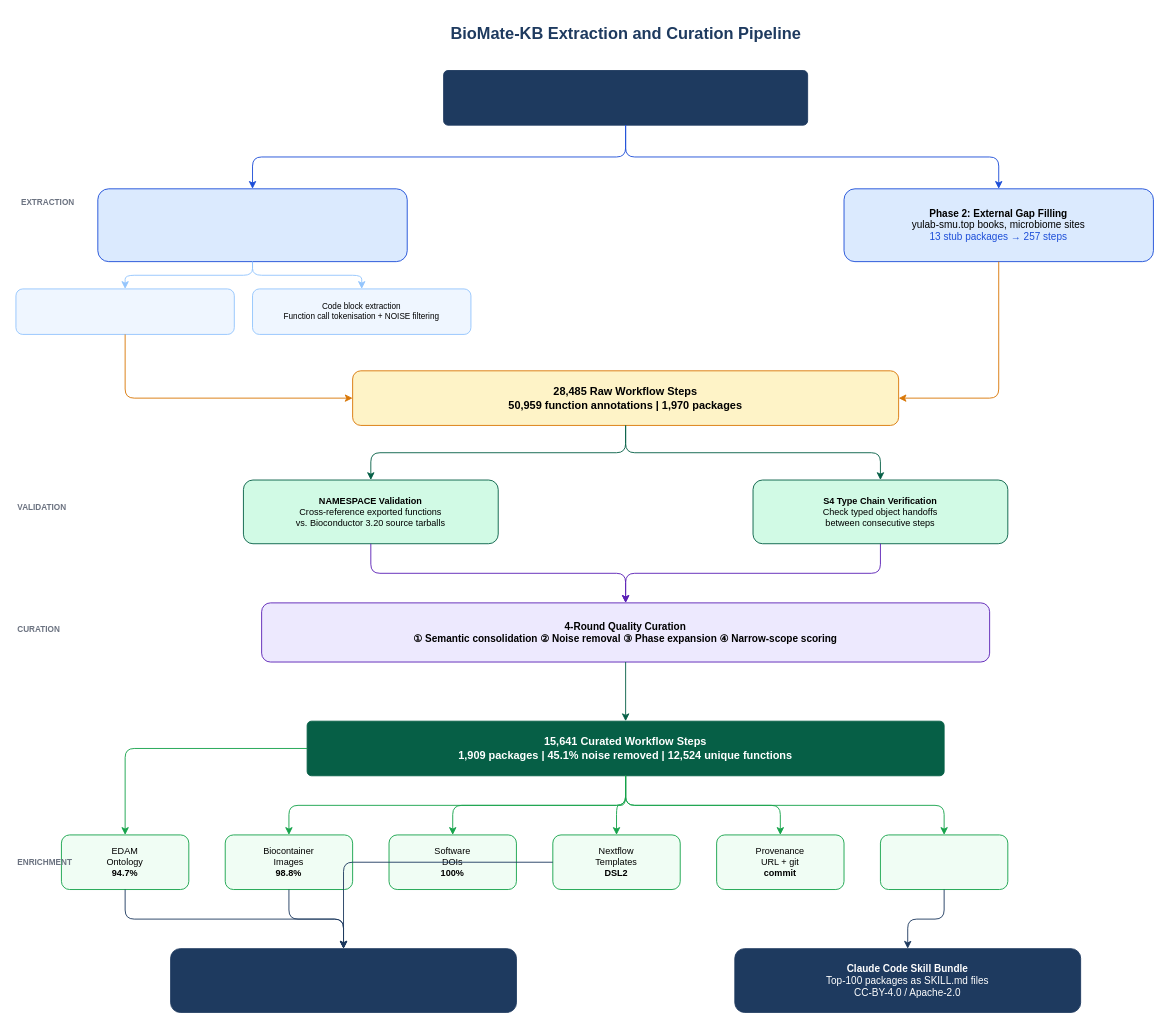
The diagram is 1169 pixels wide and 1028 high, and some of its shapes have lost their labels. The shapes that lost their labels are listed below. From the top down, each one's box as (x1, y1, x2, y2) in pixels, then its label:
(443, 70, 808, 125): Bioconductor 3.20 2,241 Packages
(97, 188, 407, 262): Phase 1: Vignette Parsing HTML, Rnw/Sweave, knitr formats 1,812 packages
(15, 288, 234, 334): Section heading extraction 4 regex patterns (Quarto, knitr, Pandoc, bare)
(880, 834, 1008, 890): Dual-Agent LLM Review κ = 0.96
(170, 948, 516, 1012): BioMate AI Platform Natural language → NAMESPACE-verified Nextflow workflows
